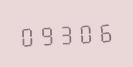nine: (37, 21, 55, 47)
six: (94, 18, 112, 44)
three: (56, 20, 74, 46)
zero: (18, 22, 36, 48), (75, 19, 93, 45)
